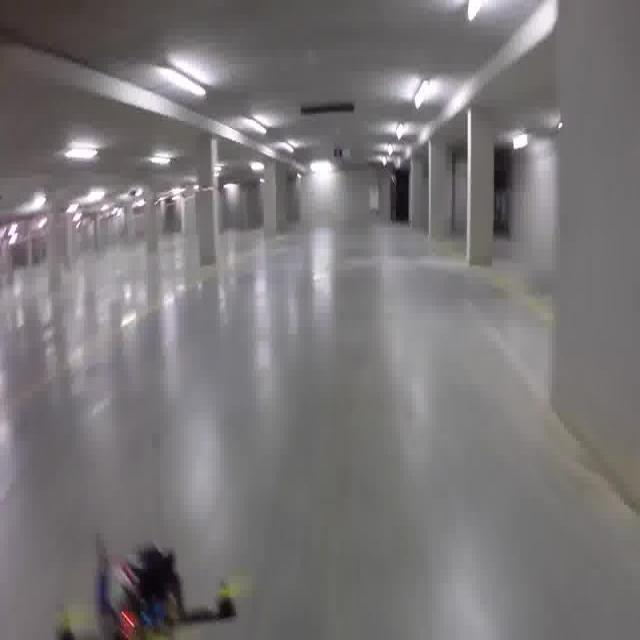drones: (42, 524, 258, 640)
